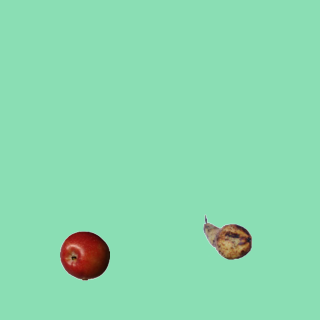Apple Braeburn: (59, 230, 109, 280)
Pear Abate: (202, 212, 252, 262)
